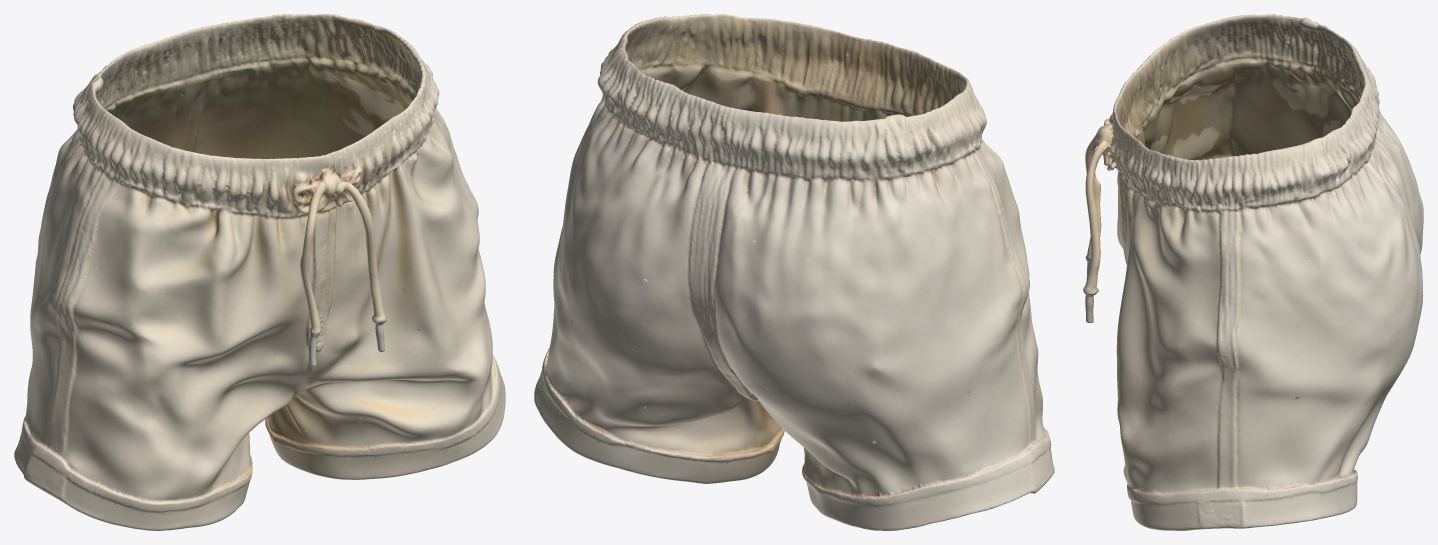
File: Meshy_AI_Gold_Shorts_0809233639_texture.glb
3 renders of one model, left to right at view 1: azimuth 30°, elevation 25°; view 2: azimuth 150°, elevation 25°; view 3: azimuth 270°, elevation 25°, orthographic. The views are drawn at different scales.
Size of the model in its own units: 2 by 1.64 by 1.32.
1 material, 1 textured.
